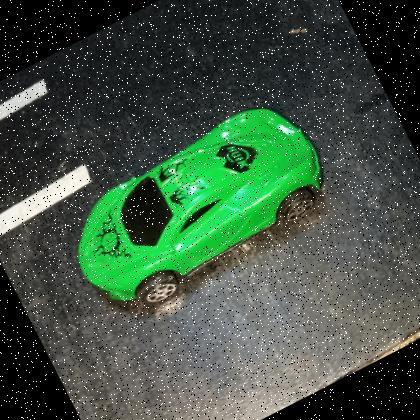Car: (49, 88, 346, 328)
